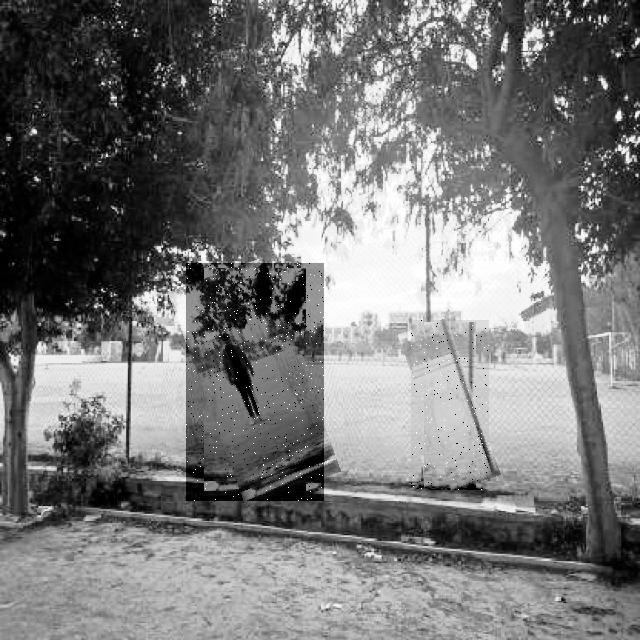anomaly-fence: (186, 263, 324, 501), (411, 320, 489, 490)
